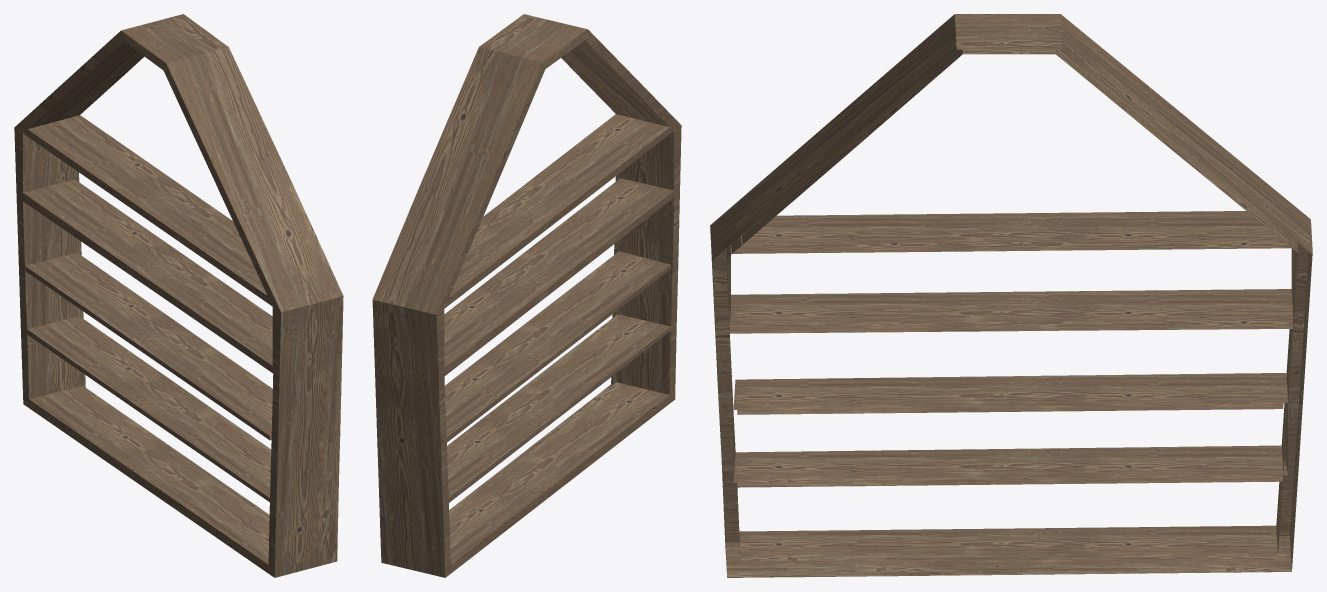
File: OU_AR_Bookshelf_01_D.fbx
3 renders of one model, left to right at view 1: azimuth 30°, elevation 25°; view 2: azimuth 150°, elevation 25°; view 3: azimuth 270°, elevation 25°, orthographic. The views are drawn at different scales.
Visible parts, largest first — view 1: Object421; view 2: Object421; view 3: Object421.
Boxes of the visible parts, x1,y1,x2,y2 form: Object421: (14, 14, 343, 577); Object421: (372, 14, 681, 577); Object421: (710, 14, 1312, 577).
Size of the model in its own units: 85.94 by 495 by 517.
1 material, 1 textured.
